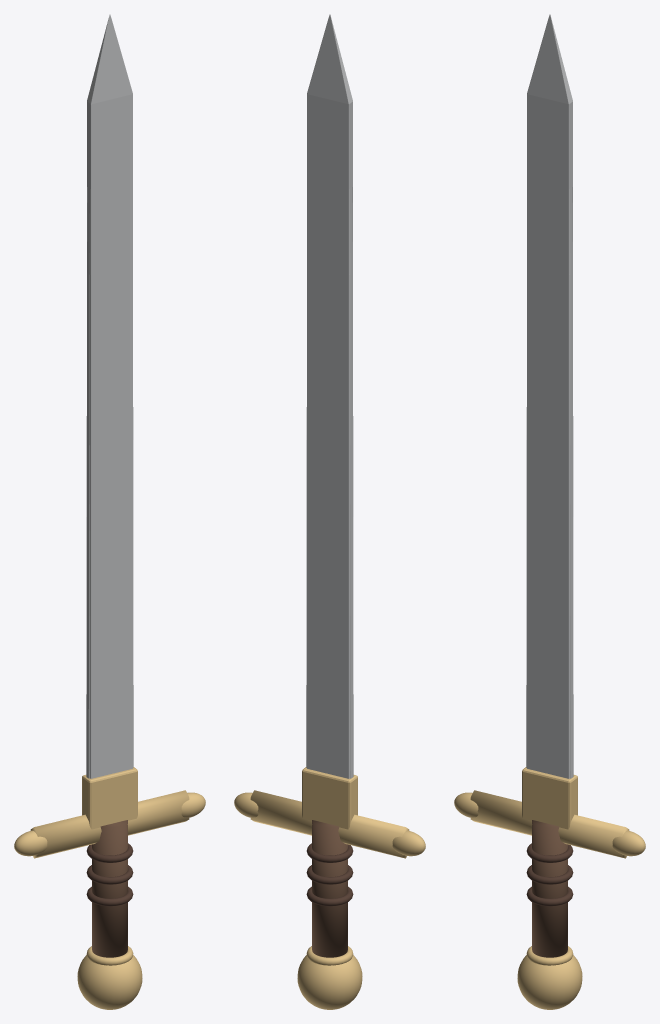
The model's file is GEO-knight_sword.glb.
The picture shows the model from 3 angles, left to right: view 1: azimuth 30°, elevation 25°; view 2: azimuth 150°, elevation 25°; view 3: azimuth 330°, elevation 25°; orthographic projection.
Parts seen in each view (by area): view 1: GEO-blade, GEO-grip, GEO-guard_bar, GEO-ricasso_block, GEO-pommel, GEO-guard_tip_L, GEO-guard_tip_R, GEO-pommel_collar; view 2: GEO-blade, GEO-grip, GEO-guard_bar, GEO-ricasso_block, GEO-pommel, GEO-guard_tip_L, GEO-guard_tip_R, GEO-pommel_collar; view 3: GEO-blade, GEO-grip, GEO-guard_bar, GEO-ricasso_block, GEO-pommel, GEO-guard_tip_R, GEO-guard_tip_L, GEO-pommel_collar.
Boxes of the visible parts, x1,y1,x2,y2 form: GEO-blade: (86, 14, 133, 778); GEO-grip: (92, 820, 127, 957); GEO-guard_bar: (30, 790, 189, 858); GEO-ricasso_block: (82, 767, 137, 829); GEO-pommel: (77, 955, 142, 1009); GEO-guard_tip_L: (14, 830, 47, 856); GEO-guard_tip_R: (181, 792, 205, 817); GEO-pommel_collar: (86, 946, 133, 965); GEO-blade: (306, 14, 353, 778); GEO-grip: (312, 820, 347, 957); GEO-guard_bar: (250, 790, 409, 858); GEO-ricasso_block: (302, 767, 357, 829); GEO-pommel: (297, 955, 362, 1009); GEO-guard_tip_L: (392, 830, 425, 856); GEO-guard_tip_R: (234, 792, 258, 817); GEO-pommel_collar: (306, 946, 353, 965); GEO-blade: (526, 14, 573, 778); GEO-grip: (532, 820, 567, 957); GEO-guard_bar: (470, 790, 629, 858); GEO-ricasso_block: (522, 767, 577, 829); GEO-pommel: (517, 955, 582, 1009); GEO-guard_tip_R: (612, 830, 645, 856); GEO-guard_tip_L: (454, 792, 478, 817); GEO-pommel_collar: (526, 946, 573, 965).
Size of the model in its own units: 0.202 by 1.01 by 0.06.
